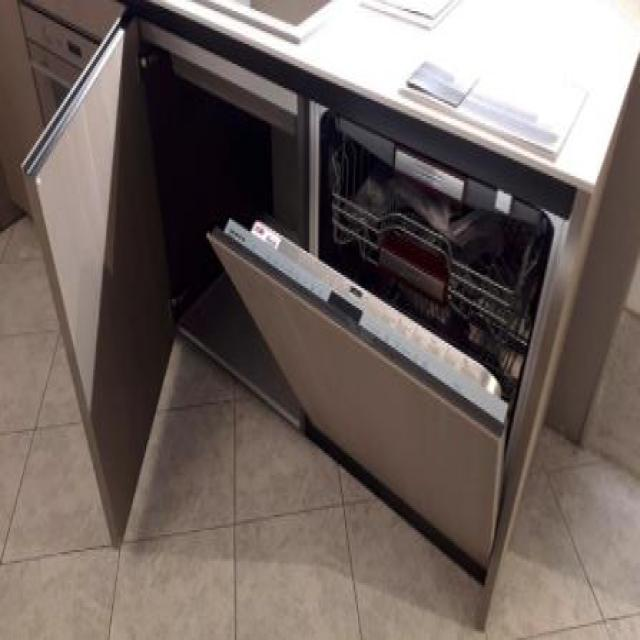dishwasher: (206, 97, 577, 596)
